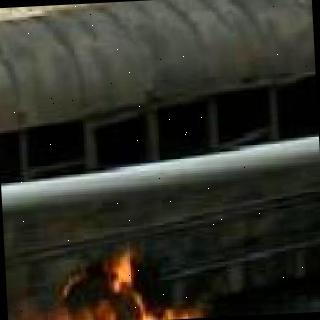fire: (38, 250, 191, 320)
